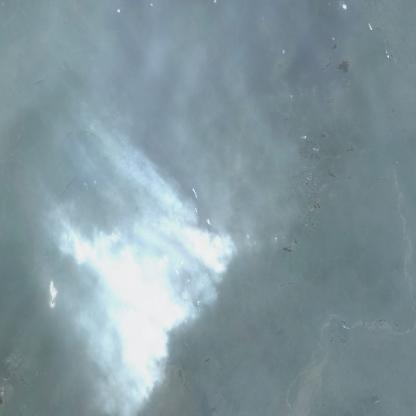fire: (115, 207, 225, 348)
